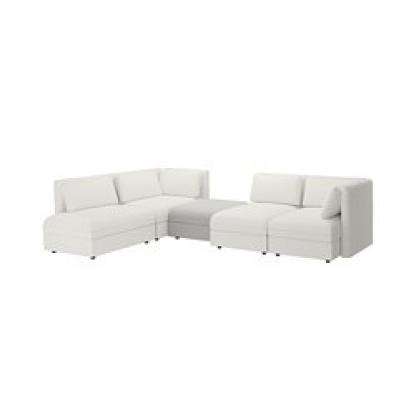Sofa: (31, 145, 378, 283)
